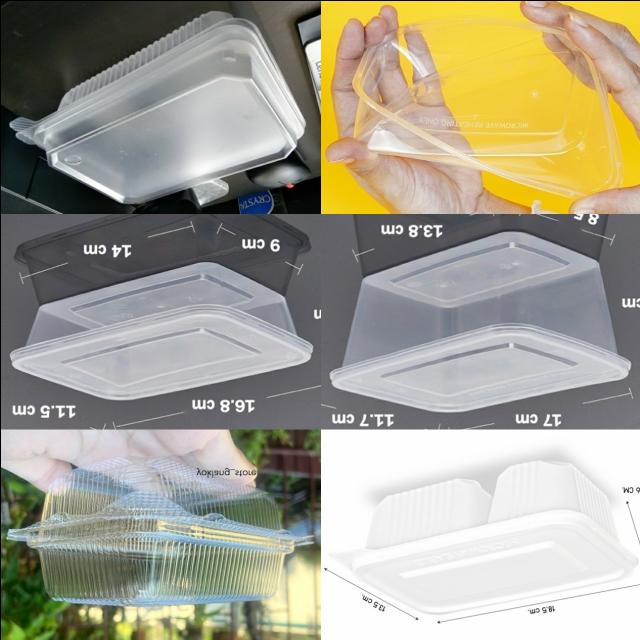plastik: (12, 10, 304, 202), (329, 231, 630, 412), (352, 16, 621, 198), (330, 460, 636, 614), (7, 457, 309, 605), (9, 261, 311, 399)
